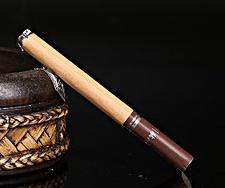smoke: (18, 27, 194, 171)
